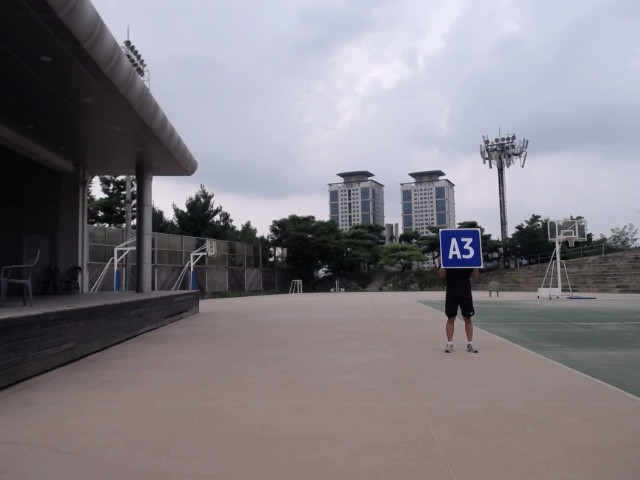delivery_a3: (440, 229, 484, 269)
